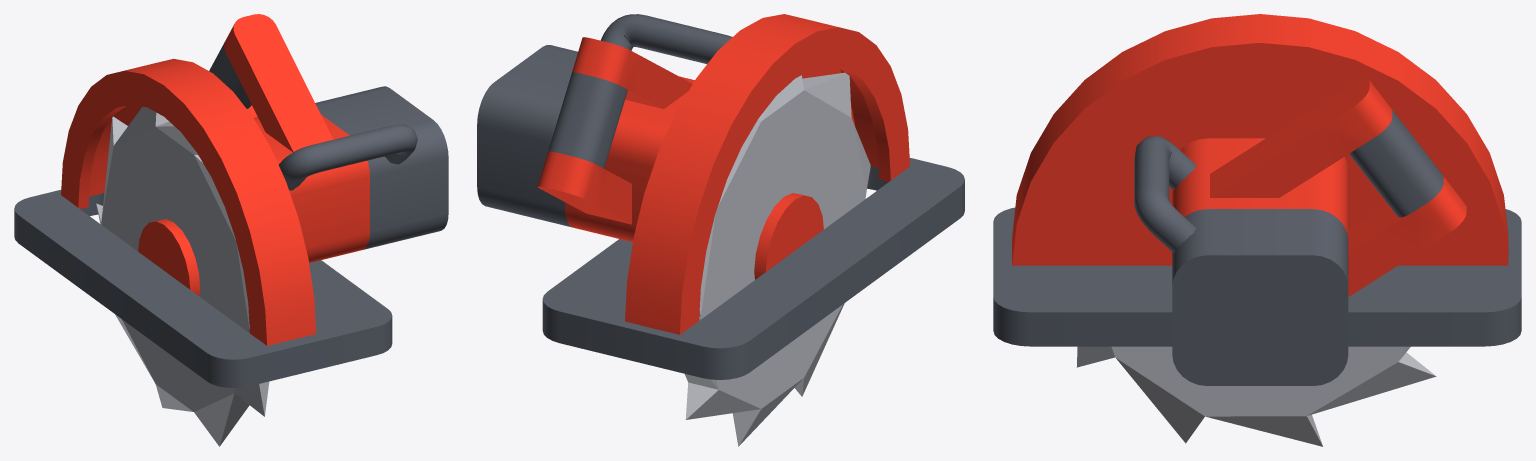
File: Saw.fbx
3 views of the same model, side by side, from view 1: azimuth 30°, elevation 25°; view 2: azimuth 150°, elevation 25°; view 3: azimuth 270°, elevation 25° (orthographic). The views are drawn at different scales.
Visible parts, largest first — view 1: Saw, Saw.001; view 2: Saw, Saw.001; view 3: Saw, Saw.001.
Part boxes in pixels (<box>): Saw: <box>14,14,448,387</box>; Saw.001: <box>96,106,269,446</box>; Saw: <box>477,14,964,379</box>; Saw.001: <box>684,72,870,446</box>; Saw: <box>993,14,1521,385</box>; Saw.001: <box>1076,346,1436,446</box>.
Size of the model in its own units: 0.6573 by 0.7369 by 0.8318.
